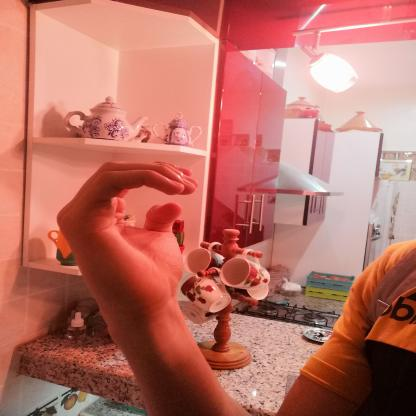JEEM: (41, 149, 215, 330)
